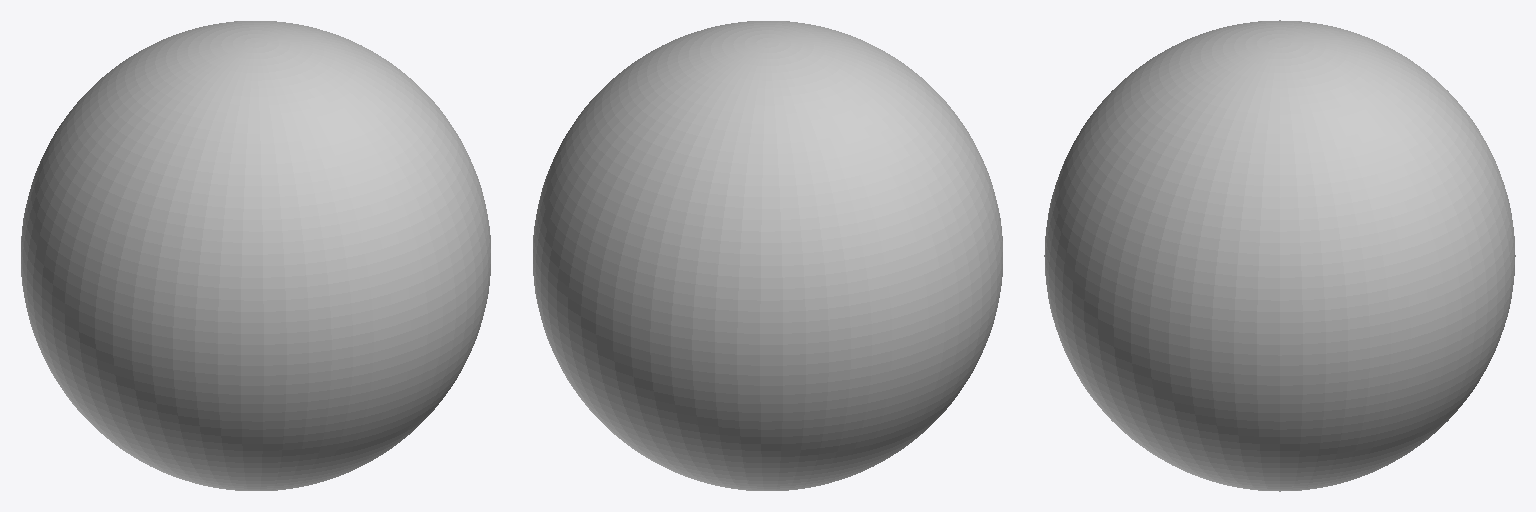
File: Ball10.obj
3 renders of one model, left to right at view 1: azimuth 30°, elevation 25°; view 2: azimuth 150°, elevation 25°; view 3: azimuth 270°, elevation 25°, orthographic.
Parts seen in each view (by area): view 1: Sphere; view 2: Sphere; view 3: Sphere.
Boxes of the visible parts, box(x1,y1,x2,y2) form: Sphere: box(21, 21, 490, 490); Sphere: box(533, 21, 1002, 490); Sphere: box(1044, 20, 1515, 491).
Bounding box in the file's own units: 2 × 2 × 2.